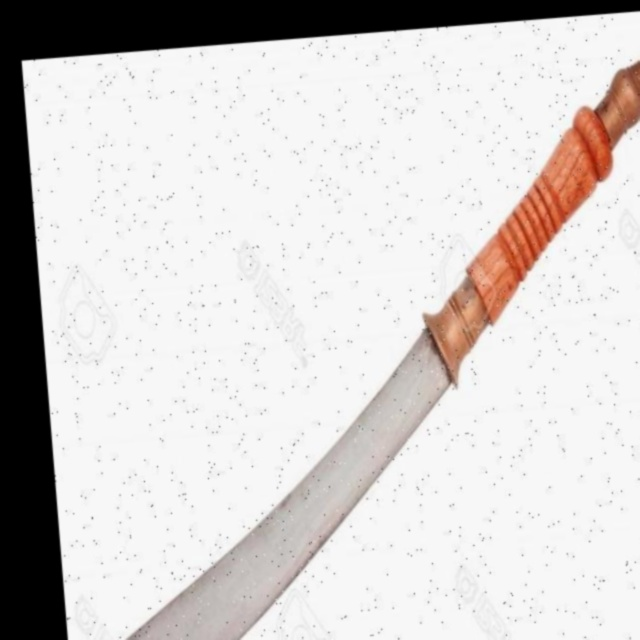Sharp-Object: (41, 27, 640, 640)
